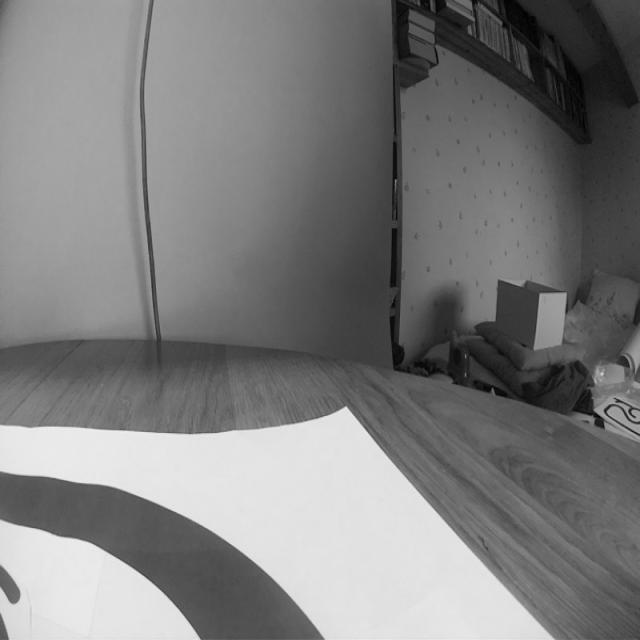laneLeftTurn: (76, 472, 336, 640)
